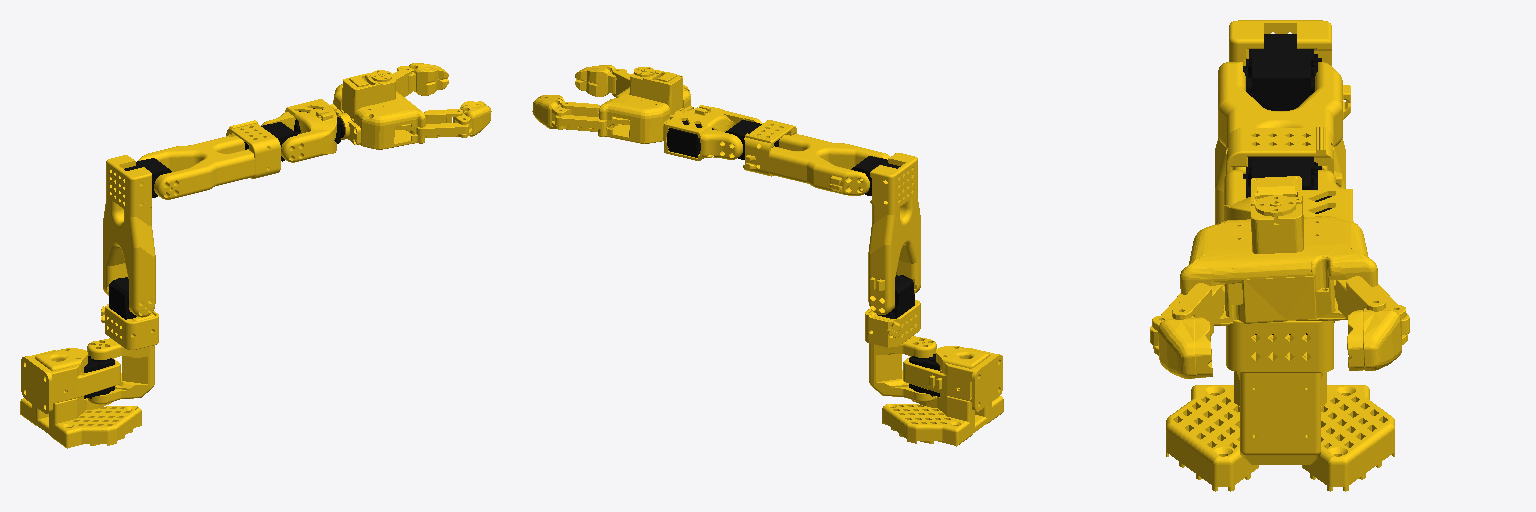
robot.urdf — so101_new_calib:
<?xml version="1.0" encoding="utf-8"?>
<!-- Generated using onshape-to-robot -->
<!-- Onshape https://cad.onshape.com/documents/7715cc284bb430fe6dab4ffd/w/4fd0791b683777b02f8d975a/e/826c553ede3b7592eb9ca800 -->
<robot name="so101_new_calib">

  <!-- Materials -->
  <material name="3d_printed">
    <color rgba="1.0 0.82 0.12 1.0"/>
  </material>
  <material name="sts3215">
    <color rgba="0.1 0.1 0.1 1.0"/>
  </material>

  <!-- Link base -->
  <link name="base_link">
    <inertial>
      <origin xyz="0.0137179 -5.19711e-05 0.0334843" rpy="0 0 0"/>
      <mass value="0.147"/>
      <inertia ixx="0.000114686" ixy="-4.59787e-07" ixz="4.97151e-06" iyy="0.000136117" iyz="9.75275e-08" izz="0.000130364"/>
    </inertial>
    <!-- Part base_motor_holder_so101_v1 -->
    <visual>
      <origin xyz="-0.00636471 -9.94414e-05 -0.0024" rpy="1.5708 -1.67685e-15 1.5708"/>
      <geometry>
        <mesh filename="meshes/SO101/visual/base_motor_holder_so101_v1.dae"/>
      </geometry>
      <material name="3d_printed"/>
    </visual>
    <!--<collision>
      <origin xyz="-0.00636471 -9.94414e-05 -0.0024" rpy="1.5708 -1.67685e-15 1.5708"/>
      <geometry>
        <mesh filename="meshes/SO101/visual/base_motor_holder_so101_v1.dae"/>
      </geometry>
    </collision>-->
    <!-- Part base_so101_v2 -->
    <visual>
      <origin xyz="-0.00636471 -8.97657e-09 -0.0024" rpy="1.5708 -2.78073e-29 1.5708"/>
      <geometry>
        <mesh filename="meshes/SO101/visual/base_so101_v2.dae"/>
      </geometry>
      <material name="3d_printed"/>
    </visual>
    <!--<collision>
      <origin xyz="-0.00636471 -8.97657e-09 -0.0024" rpy="1.5708 -2.78073e-29 1.5708"/>
      <geometry>
        <mesh filename="meshes/SO101/visual/base_so101_v2.dae"/>
      </geometry>
    </collision>-->
    <!-- Part sts3215_03a_v1 -->
    <visual>
      <origin xyz="0.0263353 -8.97657e-09 0.0437" rpy="-8.21148e-16 7.84513e-18 1.249e-15"/>
      <geometry>
        <mesh filename="meshes/SO101/visual/sts3215_03a_v1.dae"/>
      </geometry>
      <material name="sts3215"/>
    </visual>
    <!--<collision>
      <origin xyz="0.0263353 -8.97657e-09 0.0437" rpy="-8.21148e-16 7.84513e-18 1.249e-15"/>
      <geometry>
        <mesh filename="meshes/SO101/visual/sts3215_03a_v1.dae"/>
      </geometry>
    </collision>-->
    <!-- Part waveshare_mounting_plate_so101_v2 -->
    <visual>
      <origin xyz="-0.0309827 -0.000199441 0.0474" rpy="1.5708 -1.35493e-14 1.5708"/>
      <geometry>
        <mesh filename="meshes/SO101/visual/waveshare_mounting_plate_so101_v2.dae"/>
      </geometry>
      <material name="3d_printed"/>
    </visual>
    <!--<collision>
      <origin xyz="-0.0309827 -0.000199441 0.0474" rpy="1.5708 -1.35493e-14 1.5708"/>
      <geometry>
        <mesh filename="meshes/SO101/visual/waveshare_mounting_plate_so101_v2.dae"/>
      </geometry>
    </collision>-->
  </link>

  <!-- Link shoulder -->
  <link name="shoulder_link">
    <inertial>
      <origin xyz="-0.0307604 -1.66727e-05 -0.0252713" rpy="0 0 0"/>
      <mass value="0.100006"/>
      <inertia ixx="8.3759e-05" ixy="7.55525e-08" ixz="-1.16342e-06" iyy="8.10403e-05" iyz="1.54663e-07" izz="2.39783e-05"/>
    </inertial>
    <!-- Part sts3215_03a_v1_2 -->
    <visual>
      <origin xyz="-0.0303992 0.000422241 -0.0417" rpy="1.5708 1.5708 0"/>
      <geometry>
        <mesh filename="meshes/SO101/visual/sts3215_03a_v1.dae"/>
      </geometry>
      <material name="sts3215"/>
    </visual>
    <!--<collision>
      <origin xyz="-0.0303992 0.000422241 -0.0417" rpy="1.5708 1.5708 0"/>
      <geometry>
        <mesh filename="meshes/SO101/visual/sts3215_03a_v1.dae"/>
      </geometry>
    </collision>-->
    <!-- Part motor_holder_so101_base_v1 -->
    <visual>
      <origin xyz="-0.0675992 -0.000177759 0.0158499" rpy="1.5708 -1.5708 0"/>
      <geometry>
        <mesh filename="meshes/SO101/visual/motor_holder_so101_base_v1.dae"/>
      </geometry>
      <material name="3d_printed"/>
    </visual>
    <!--<collision>
      <origin xyz="-0.0675992 -0.000177759 0.0158499" rpy="1.5708 -1.5708 0"/>
      <geometry>
        <mesh filename="meshes/SO101/visual/motor_holder_so101_base_v1.dae"/>
      </geometry>
    </collision>-->
    <!-- Part rotation_pitch_so101_v1 -->
    <visual>
      <origin xyz="0.0122008 2.22413e-05 0.0464" rpy="-1.5708 2.35221e-33 0"/>
      <geometry>
        <mesh filename="meshes/SO101/visual/rotation_pitch_so101_v1.dae"/>
      </geometry>
      <material name="3d_printed"/>
    </visual>
    <!--<collision>
      <origin xyz="0.0122008 2.22413e-05 0.0464" rpy="-1.5708 2.35221e-33 0"/>
      <geometry>
        <mesh filename="meshes/SO101/visual/rotation_pitch_so101_v1.dae"/>
      </geometry>
    </collision>-->
  </link>

  <!-- Link upper_arm -->
  <link name="upper_arm_link">
    <inertial>
      <origin xyz="-0.0898471 -0.00838224 0.0184089" rpy="0 0 0"/>
      <mass value="0.103"/>
      <inertia ixx="4.08002e-05" ixy="-1.97819e-05" ixz="-4.03016e-08" iyy="0.000147318" iyz="8.97326e-09" izz="0.000142487"/>
    </inertial>
    <!-- Part sts3215_03a_v1_3 -->
    <visual>
      <origin xyz="-0.11257 -0.0155 0.0187" rpy="-3.14159 -5.27356e-16 -1.5708"/>
      <geometry>
        <mesh filename="meshes/SO101/visual/sts3215_03a_v1.dae"/>
      </geometry>
      <material name="sts3215"/>
    </visual>
    <!--<collision>
      <origin xyz="-0.11257 -0.0155 0.0187" rpy="-3.14159 -5.27356e-16 -1.5708"/>
      <geometry>
        <mesh filename="meshes/SO101/visual/sts3215_03a_v1.dae"/>
      </geometry>
    </collision>-->
    <!-- Part upper_arm_so101_v1 -->
    <visual>
      <origin xyz="-0.065085 0.012 0.0182" rpy="3.14159 -0 -1.30911e-30"/>
      <geometry>
        <mesh filename="meshes/SO101/visual/upper_arm_so101_v1.dae"/>
      </geometry>
      <material name="3d_printed"/>
    </visual>
    <!--<collision>
      <origin xyz="-0.065085 0.012 0.0182" rpy="3.14159 -0 -1.30911e-30"/>
      <geometry>
        <mesh filename="meshes/SO101/visual/upper_arm_so101_v1.dae"/>
      </geometry>
    </collision>-->
  </link>

  <!-- Link lower_arm -->
  <link name="lower_arm_link">
    <inertial>
      <origin xyz="-0.0980701 0.00324376 0.0182831" rpy="0 0 0"/>
      <mass value="0.104"/>
      <inertia ixx="2.87438e-05" ixy="7.41152e-06" ixz="1.26409e-06" iyy="0.000159844" iyz="-4.90188e-08" izz="0.00014529"/>
    </inertial>
    <!-- Part under_arm_so101_v1 -->
    <visual>
      <origin xyz="-0.0648499 -0.032 0.0182" rpy="3.14159 -0 6.67202e-31"/>
      <geometry>
        <mesh filename="meshes/SO101/visual/under_arm_so101_v1.dae"/>
      </geometry>
      <material name="3d_printed"/>
    </visual>
    <!--<collision>
      <origin xyz="-0.0648499 -0.032 0.0182" rpy="3.14159 -0 6.67202e-31"/>
      <geometry>
        <mesh filename="meshes/SO101/visual/under_arm_so101_v1.dae"/>
      </geometry>
    </collision>-->
    <!-- Part motor_holder_so101_wrist_v1 -->
    <visual>
      <origin xyz="-0.0648499 -0.032 0.018" rpy="-3.14159 -2.55351e-15 -1.83387e-30"/>
      <geometry>
        <mesh filename="meshes/SO101/visual/motor_holder_so101_wrist_v1.dae"/>
      </geometry>
      <material name="3d_printed"/>
    </visual>
    <!--<collision>
      <origin xyz="-0.0648499 -0.032 0.018" rpy="-3.14159 -2.55351e-15 -1.83387e-30"/>
      <geometry>
        <mesh filename="meshes/SO101/visual/motor_holder_so101_wrist_v1.dae"/>
      </geometry>
    </collision>-->
    <!-- Part sts3215_03a_v1_4 -->
    <visual>
      <origin xyz="-0.1224 0.0052 0.0187" rpy="-3.14159 -7.88861e-31 -3.14159"/>
      <geometry>
        <mesh filename="meshes/SO101/visual/sts3215_03a_v1.dae"/>
      </geometry>
      <material name="sts3215"/>
    </visual>
    <!--<collision>
      <origin xyz="-0.1224 0.0052 0.0187" rpy="-3.14159 -7.88861e-31 -3.14159"/>
      <geometry>
        <mesh filename="meshes/SO101/visual/sts3215_03a_v1.dae"/>
      </geometry>
    </collision>-->
  </link>

  <!-- Link wrist -->
  <link name="wrist_link">
    <inertial>
      <origin xyz="-0.000103312 -0.0386143 0.0281156" rpy="0 0 0"/>
      <mass value="0.079"/>
      <inertia ixx="3.68263e-05" ixy="1.7893e-08" ixz="-5.28128e-08" iyy="2.5391e-05" iyz="3.6412e-06" izz="2.1e-05"/>
    </inertial>
    <!-- Part sts3215_03a_no_horn_v1 -->
    <visual>
      <origin xyz="8.32667e-17 -0.0424 0.0306" rpy="1.5708 1.5708 0"/>
      <geometry>
        <mesh filename="meshes/SO101/visual/sts3215_03a_no_horn_v1.dae"/>
      </geometry>
      <material name="sts3215"/>
    </visual>
    <!--<collision>
      <origin xyz="8.32667e-17 -0.0424 0.0306" rpy="1.5708 1.5708 0"/>
      <geometry>
        <mesh filename="meshes/SO101/visual/sts3215_03a_no_horn_v1.dae"/>
      </geometry>
    </collision>-->
    <!-- Part wrist_roll_pitch_so101_v2 -->
    <visual>
      <origin xyz="0 -0.028 0.0181" rpy="-1.5708 -1.5708 0"/>
      <geometry>
        <mesh filename="meshes/SO101/visual/wrist_roll_pitch_so101_v2.dae"/>
      </geometry>
      <material name="3d_printed"/>
    </visual>
    <!--<collision>
      <origin xyz="0 -0.028 0.0181" rpy="-1.5708 -1.5708 0"/>
      <geometry>
        <mesh filename="meshes/SO101/visual/wrist_roll_pitch_so101_v2.dae"/>
      </geometry>
    </collision>-->
  </link>

  <!-- Link gripper -->
  <link name="gripper_link">
    <inertial>
      <origin xyz="0.000213627 0.000245138 -0.025187" rpy="0 0 0"/>
      <mass value="0.087"/>
      <inertia ixx="2.75087e-05" ixy="-3.35241e-07" ixz="-5.7352e-06" iyy="4.33657e-05" iyz="-5.17847e-08" izz="3.45059e-05"/>
    </inertial>
    <!-- Part sts3215_03a_v1_5 — ⛔ 제거됨 (2026-08-01)
         PincOpen base 메시 안에 같은 STS3215(ID 6)가 이미 포함돼 있어
         모터가 두 개로 렌더링됐다. 실물은 한 개이므로 이쪽을 뺀다.
         (Unity 스크린샷으로 중복 확인 완료)
    <visual>
      <origin xyz="0.0077 0.0001 -0.0234" rpy="-1.5708 -5.19179e-17 -1.66533e-16"/>
      <geometry>
        <mesh filename="meshes/SO101/visual/sts3215_03a_v1.dae"/>
      </geometry>
      <material name="sts3215"/>
    </visual>
    -->
    <!--<collision>
      <origin xyz="0.0077 0.0001 -0.0234" rpy="-1.5708 -5.19179e-17 -1.66533e-16"/>
      <geometry>
        <mesh filename="meshes/SO101/visual/sts3215_03a_v1.dae"/>
      </geometry>
    </collision>-->
    <!-- Part wrist_roll_follower_so101_v1 — ⛔ 제거됨 (2026-08-01)
         순정 그리퍼 모터를 감싸던 하우징 + 고정 조.
         실물에서 이 부품을 떼고 Interface_ARM100 어댑터를 장착했으므로 뺀다.
         (사용자 확인 완료)
    <visual>
      <origin xyz="8.32667e-17 -0.000218214 0.000949706" rpy="-3.14159 -5.55112e-17 0"/>
      <geometry>
        <mesh filename="meshes/SO101/visual/wrist_roll_follower_so101_v1.dae"/>
      </geometry>
      <material name="3d_printed"/>
    </visual>
    -->
    <!--<collision>
      <origin xyz="8.32667e-17 -0.000218214 0.000949706" rpy="-3.14159 -5.55112e-17 0"/>
      <geometry>
        <mesh filename="meshes/SO101/visual/wrist_roll_follower_so101_v1.dae"/>
      </geometry>
    </collision>-->
  </link>

  <!-- Gripper frame (dummy link + fixed joint) -->
  <link name="gripper_frame_link">
    <origin xyz="0 0 0" rpy="0 -0 0"/>
    <inertial>
      <origin xyz="0 0 0" rpy="0 0 0"/>
      <mass value="1e-9"/>
      <inertia ixx="0" ixy="0" ixz="0" iyy="0" iyz="0" izz="0"/>
    </inertial>
  </link>

  <joint name="gripper_frame_joint" type="fixed">
    <origin xyz="-0.0079 -0.000218121 -0.0981274" rpy="0 3.14159 0"/>
    <parent link="gripper_link"/>
    <child link="gripper_frame_link"/>
    <axis xyz="0 0 0"/>
  </joint>

  <!-- ==================================================================
       PincOpen 그리퍼 (순정 moving_jaw_so101_v1 교체)

       출처 : pollen-robotics/PincOpen  PR #6 (MuJoCo Simulation Support)
              메시 mujoco/assets/*.stl → DAE 변환, 관절값 mujoco/eef.xml
       라이선스 : CC BY-SA 4.0 (Pollen Robotics)
       단위 : 미터 (원본이 이미 m → 스케일 변환 없음)

       ⚠️ 임시값 (실물 확인 후 확정할 것)
         1) pincopen_mount origin — Interface_ARM100 어댑터 두께 미실측.
            Unity 인스펙터(PincOpenCoupling)에서 눈으로 맞춘 뒤 여기에 굽기.
         2) limit ±1.25 rad — 손가락 커플링 배율이 ×0.5(ROS2)인지
            ×1.0(MJCF)인지 미확정이라 둘 다 수용하도록 넓게 잡음.
            실물 대조 후 좁힐 것.
         3) mass/inertia — MJCF 원본이 명백한 임시값이라 쓰지 않고
            형상 크기에 맞춰 대략 지정. 동역학 계산에 쓰지 말 것.

       ※ 이 파일의 관절각 = 손가락 각도.  모터(ID 6) 각도와 다름.
         PINCOPEN.md 기준 모터 140° ≈ 손가락 44°.
       ================================================================== -->

  <!-- ===== 손목 → Interface_ARM100 어댑터 =====
       ✅ 2026-08-01 확정. 사용자 육안 확인 + 렌더링 검증 완료.

       유도 근거 (추측 아님):
         · 순정 TCP(gripper_frame_joint)가 z=-0.0981 → 공구 방향은 gripper_link 의 -Z
         · PincOpen 은 +X 가 손가락 방향
         · +X 를 -Z 로 보내는 회전 = Y축 +90°  → rpy="0 1.5708 0"
         · 어댑터 두께 8.117mm 만큼 뒤로 물림   → xyz z=-0.008117

       ⚙️ 관절 리밋 (2026-08-01 확정)
         모든 PincOpen 관절 = lower="-0.8465" upper="0" (-48.5° ~ 0°)
           · 0.8465 rad = 48.5° : 메시 정점 실측. -48.9°에서 좌우 패드가 맞닿음
           · 0 = 열림(개구부 66mm), -0.8465 = 닫힘(맞닿음). ROS2 의 1.22 rad 를  쓰면 22mm 파고듦 — 기준 0점이 다름
         ⚠️ 이 값은 **손가락 각도**다. 모터 각도가 아니다.
            모터: 0°(닫힘) ~ -140°(열림), 펌웨어 하드리밋 -147°

       검증 결과: 손목↔어댑터 빈틈 0.0mm (접촉), 좌우 대칭 정렬 확인.

       ⚠️ 이 값이 단일 진실 공급원이다.
          PincOpenCoupling.applyMountOffset 을 켜면 이 값이 무시되므로 꺼둘 것. -->
  <joint name="pincopen_mount" type="fixed">
    <origin xyz="0 0 -0.008117" rpy="0 1.5708 0"/>
    <parent link="gripper_link"/>
    <child link="pincopen_adapter_link"/>
  </joint>

  <!-- Interface_ARM100 — SO-ARM101 ↔ PincOpen 결합 어댑터
       출처 : pollen-robotics/PincOpen  cad/stl/Interface_ARM100.stl (CC BY-SA 4.0)
       실측 : 두께 8.117mm × 51mm × 24mm
       ✅ 메시를 mm→m 변환하면서 x 를 +53.492mm 평행이동해
          앞면이 정확히 x=0 (= PincOpen base 뒷면) 에 오도록 미리 맞춰뒀다.
          따라서 아래 visual origin 과 base 조인트 origin 은 둘 다 0 이 맞다. -->
  <link name="pincopen_adapter_link">
    <inertial>
      <origin xyz="-0.004 0 0" rpy="0 0 0"/>
      <mass value="0.015"/>
      <inertia ixx="1e-5" ixy="0" ixz="0" iyy="1e-5" iyz="0" izz="1e-5"/>
    </inertial>
    <visual>
      <origin xyz="0 0 0" rpy="0 0 0"/>
      <geometry>
        <mesh filename="meshes/PincOpen/visual/Interface_ARM100.dae"/>
      </geometry>
      <material name="3d_printed"/>
    </visual>
  </link>

  <!-- 어댑터 앞면 ↔ PincOpen 본체 뒷면 (기하학적으로 확정된 관계, 조정 불필요) -->
  <joint name="pincopen_base_joint" type="fixed">
    <origin xyz="0 0 0" rpy="0 0 0"/>
    <parent link="pincopen_adapter_link"/>
    <child link="pincopen_base_link"/>
  </joint>

  <link name="pincopen_base_link">
    <inertial>
      <origin xyz="0 0 0" rpy="0 0 0"/>
      <mass value="0.08"/>
      <inertia ixx="1e-4" ixy="0" ixz="0" iyy="1e-4" iyz="0" izz="1e-4"/>
    </inertial>
    <visual>
      <origin xyz="0 0 0" rpy="0 0 0"/>
      <geometry>
        <mesh filename="meshes/PincOpen/visual/base.dae"/>
      </geometry>
      <material name="3d_printed"/>
    </visual>
  </link>

  <!-- ===== 왼쪽 (구동축 — 모터 ID 6 이 여기에 대응) ===== -->
  <joint name="gripper" type="revolute">
    <origin xyz="0.053492 0.0325 -0.005" rpy="0 0 0"/>
    <parent link="pincopen_base_link"/>
    <child link="pincopen_left_proximal_link"/>
    <axis xyz="0 0 1"/>
    <limit effort="10" velocity="10" lower="-0.8465" upper="0"/>
  </joint>

  <link name="pincopen_left_proximal_link">
    <inertial>
      <origin xyz="0 0 0" rpy="0 0 0"/>
      <mass value="0.02"/>
      <inertia ixx="1e-5" ixy="0" ixz="0" iyy="1e-5" iyz="0" izz="1e-5"/>
    </inertial>
    <visual>
      <origin xyz="0 0 0" rpy="0 0 0"/>
      <geometry>
        <mesh filename="meshes/PincOpen/visual/left_proximal.dae"/>
      </geometry>
      <material name="3d_printed"/>
    </visual>
  </link>

  <joint name="pincopen_left_distal_joint" type="revolute">
    <origin xyz="0.037848 0.012944 -0.001" rpy="0 0 0"/>
    <parent link="pincopen_left_proximal_link"/>
    <child link="pincopen_left_distal_link"/>
    <axis xyz="0 0 1"/>
    <limit effort="10" velocity="10" lower="-0.8465" upper="0"/>
  </joint>

  <link name="pincopen_left_distal_link">
    <inertial>
      <origin xyz="0 0 0" rpy="0 0 0"/>
      <mass value="0.01"/>
      <inertia ixx="1e-6" ixy="0" ixz="0" iyy="1e-6" iyz="0" izz="1e-6"/>
    </inertial>
    <visual>
      <origin xyz="0 0 0" rpy="0 0 0"/>
      <geometry>
        <mesh filename="meshes/PincOpen/visual/left_distal.dae"/>
      </geometry>
      <material name="3d_printed"/>
    </visual>
  </link>

  <!-- ===== 오른쪽 (종동축 — URDF로 폐루프 표현 불가, Unity 스크립트로 미러) ===== -->
  <joint name="pincopen_right_proximal_joint" type="revolute">
    <origin xyz="0.053492 -0.0325 -0.005" rpy="0 0 0"/>
    <parent link="pincopen_base_link"/>
    <child link="pincopen_right_proximal_link"/>
    <axis xyz="0 0 1"/>
    <limit effort="10" velocity="10" lower="-0.8465" upper="0"/>
  </joint>

  <link name="pincopen_right_proximal_link">
    <inertial>
      <origin xyz="0 0 0" rpy="0 0 0"/>
      <mass value="0.02"/>
      <inertia ixx="1e-5" ixy="0" ixz="0" iyy="1e-5" iyz="0" izz="1e-5"/>
    </inertial>
    <visual>
      <origin xyz="0 0 0" rpy="0 0 0"/>
      <geometry>
        <mesh filename="meshes/PincOpen/visual/right_proximal.dae"/>
      </geometry>
      <material name="3d_printed"/>
    </visual>
  </link>

  <joint name="pincopen_right_distal_joint" type="revolute">
    <origin xyz="0.037848 -0.012944 -0.001" rpy="0 0 0"/>
    <parent link="pincopen_right_proximal_link"/>
    <child link="pincopen_right_distal_link"/>
    <axis xyz="0 0 1"/>
    <limit effort="10" velocity="10" lower="-0.8465" upper="0"/>
  </joint>

  <link name="pincopen_right_distal_link">
    <inertial>
      <origin xyz="0 0 0" rpy="0 0 0"/>
      <mass value="0.01"/>
      <inertia ixx="1e-6" ixy="0" ixz="0" iyy="1e-6" iyz="0" izz="1e-6"/>
    </inertial>
    <visual>
      <origin xyz="0 0 0" rpy="0 0 0"/>
      <geometry>
        <mesh filename="meshes/PincOpen/visual/right_distal.dae"/>
      </geometry>
      <material name="3d_printed"/>
    </visual>
  </link>

  <transmission name="gripper_trans">
    <type>transmission_interface/SimpleTransmission</type>
    <joint name="gripper">
      <hardwareInterface>hardware_interface/PositionJointInterface</hardwareInterface>
    </joint>
    <actuator name="motor6">
      <hardwareInterface>hardware_interface/PositionJointInterface</hardwareInterface>
      <mechanicalReduction>1</mechanicalReduction>
    </actuator>
  </transmission>

  <!-- Joint from wrist to gripper -->
  <joint name="wrist_roll" type="revolute">
    <origin xyz="5.55112e-17 -0.0611 0.0181" rpy="1.5708 0.0486795 3.14159"/>
    <parent link="wrist_link"/>
    <child link="gripper_link"/>
    <axis xyz="0 0 1"/>
    <limit effort="10" velocity="10" lower="-2.74385" upper="2.84121"/>
  </joint>

  <transmission name="wrist_roll_trans">
    <type>transmission_interface/SimpleTransmission</type>
    <joint name="wrist_roll">
      <hardwareInterface>hardware_interface/PositionJointInterface</hardwareInterface>
    </joint>
    <actuator name="motor5">
      <hardwareInterface>hardware_interface/PositionJointInterface</hardwareInterface>
      <mechanicalReduction>1</mechanicalReduction>
    </actuator>
  </transmission>

  <!-- Joint from lower_arm to wrist -->
  <joint name="wrist_flex" type="revolute">
    <origin xyz="-0.1349 0.0052 3.62355e-17" rpy="4.02456e-15 8.67362e-16 -1.5708"/>
    <parent link="lower_arm_link"/>
    <child link="wrist_link"/>
    <axis xyz="0 0 1"/>
    <limit effort="10" velocity="10" lower="-1.65806" upper="1.65806"/>
  </joint>

  <transmission name="wrist_flex_trans">
    <type>transmission_interface/SimpleTransmission</type>
    <joint name="wrist_flex">
      <hardwareInterface>hardware_interface/PositionJointInterface</hardwareInterface>
    </joint>
    <actuator name="motor4">
      <hardwareInterface>hardware_interface/PositionJointInterface</hardwareInterface>
      <mechanicalReduction>1</mechanicalReduction>
    </actuator>
  </transmission>

  <!-- Joint from upper_arm to lower_arm -->
  <!-- Note: 5-degree calibration offset applied to joint limits -->
  <joint name="elbow_flex" type="revolute">
    <origin xyz="-0.11257 -0.028 1.73763e-16" rpy="-3.63608e-16 8.74301e-16 1.5708"/>
    <parent link="upper_arm_link"/>
    <child link="lower_arm_link"/>
    <axis xyz="0 0 1"/>
    <limit effort="10" velocity="10" lower="-1.69" upper="1.69"/>
  </joint>

  <transmission name="elbow_flex_trans">
    <type>transmission_interface/SimpleTransmission</type>
    <joint name="elbow_flex">
      <hardwareInterface>hardware_interface/PositionJointInterface</hardwareInterface>
    </joint>
    <actuator name="motor3">
      <hardwareInterface>hardware_interface/PositionJointInterface</hardwareInterface>
      <mechanicalReduction>1</mechanicalReduction>
    </actuator>
  </transmission>

  <!-- Joint from shoulder to upper_arm -->
  <joint name="shoulder_lift" type="revolute">
    <origin xyz="-0.0303992 -0.0182778 -0.0542" rpy="-1.5708 -1.5708 0"/>
    <parent link="shoulder_link"/>
    <child link="upper_arm_link"/>
    <axis xyz="0 0 1"/>
    <limit effort="10" velocity="10" lower="-1.74533" upper="1.74533"/>
  </joint>

  <transmission name="shoulder_lift_trans">
    <type>transmission_interface/SimpleTransmission</type>
    <joint name="shoulder_lift">
      <hardwareInterface>hardware_interface/PositionJointInterface</hardwareInterface>
    </joint>
    <actuator name="motor2">
      <hardwareInterface>hardware_interface/PositionJointInterface</hardwareInterface>
      <mechanicalReduction>1</mechanicalReduction>
    </actuator>
  </transmission>

  <!-- Joint from base to shoulder -->
  <joint name="shoulder_pan" type="revolute">
    <origin xyz="0.0388353 -8.97657e-09 0.0624" rpy="3.14159 4.18253e-17 -3.14159"/>
    <parent link="base_link"/>
    <child link="shoulder_link"/>
    <axis xyz="0 0 1"/>
    <limit effort="10" velocity="10" lower="-1.91986" upper="1.91986"/>
  </joint>

  <transmission name="shoulder_pan_trans">
    <type>transmission_interface/SimpleTransmission</type>
    <joint name="shoulder_pan">
      <hardwareInterface>hardware_interface/PositionJointInterface</hardwareInterface>
    </joint>
    <actuator name="motor1">
      <hardwareInterface>hardware_interface/PositionJointInterface</hardwareInterface>
      <mechanicalReduction>1</mechanicalReduction>
    </actuator>
  </transmission> 

</robot>

--- Facts derived from the render (not from the file) ---
3 views of the same robot in one strip: view 1: azimuth 30°, elevation 25°; view 2: azimuth 150°, elevation 25°; view 3: azimuth 270°, elevation 25° (orthographic).
Robot: so101_new_calib — 13 links, 12 joints (9 revolute, 3 fixed); root link base_link; default pose: every joint at zero.
Links seen in each view (by area): view 1: base_link, upper_arm_link, lower_arm_link, shoulder_link, pincopen_base_link, wrist_link, pincopen_right_proximal_link, pincopen_left_distal_link, pincopen_right_distal_link; view 2: base_link, upper_arm_link, lower_arm_link, shoulder_link, pincopen_base_link, wrist_link, pincopen_left_proximal_link, pincopen_right_distal_link, pincopen_left_distal_link; view 3: pincopen_base_link, base_link, shoulder_link, lower_arm_link, upper_arm_link, pincopen_left_distal_link, pincopen_right_distal_link, wrist_link, pincopen_right_proximal_link, pincopen_left_proximal_link.
Boxes of the visible links, <box> form: base_link: <box>20,348,141,448</box>; upper_arm_link: <box>103,155,171,317</box>; lower_arm_link: <box>138,120,297,199</box>; shoulder_link: <box>87,277,158,404</box>; pincopen_base_link: <box>333,70,425,149</box>; wrist_link: <box>261,99,344,162</box>; pincopen_right_proximal_link: <box>395,109,468,137</box>; pincopen_left_distal_link: <box>397,63,448,95</box>; pincopen_right_distal_link: <box>453,101,491,137</box>; base_link: <box>882,346,1003,446</box>; upper_arm_link: <box>851,153,920,314</box>; lower_arm_link: <box>725,120,889,195</box>; shoulder_link: <box>865,275,936,401</box>; pincopen_base_link: <box>598,67,690,143</box>; wrist_link: <box>664,105,762,160</box>; pincopen_left_proximal_link: <box>555,102,629,131</box>; pincopen_right_distal_link: <box>575,65,626,96</box>; pincopen_left_distal_link: <box>532,95,571,129</box>; pincopen_base_link: <box>1180,176,1377,325</box>; base_link: <box>1166,372,1394,491</box>; shoulder_link: <box>1226,320,1334,464</box>; lower_arm_link: <box>1218,62,1350,197</box>; upper_arm_link: <box>1215,20,1353,224</box>; pincopen_left_distal_link: <box>1347,305,1407,370</box>; pincopen_right_distal_link: <box>1152,315,1212,378</box>; wrist_link: <box>1224,170,1352,221</box>; pincopen_right_proximal_link: <box>1150,283,1224,345</box>; pincopen_left_proximal_link: <box>1334,276,1409,335</box>.
Bounding box of the posed robot: 0.4597 × 0.1263 × 0.2817 m (x, y, z).
20 mesh visuals loaded from 17 distinct referenced files (17 Collada DAE).
